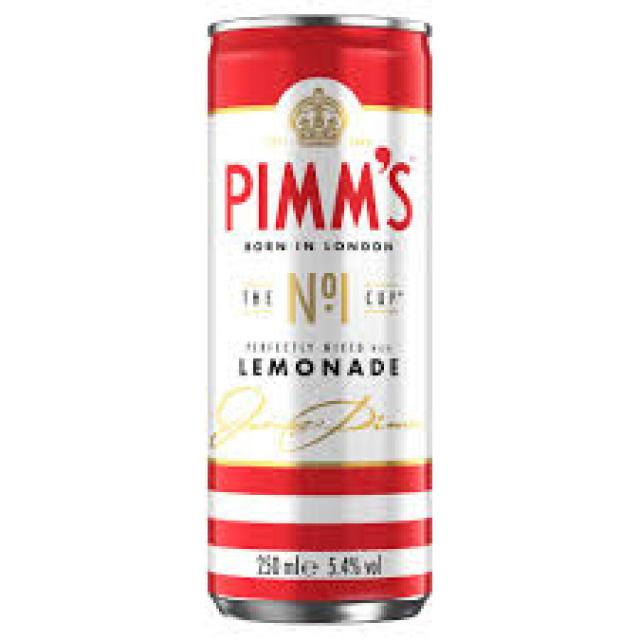Cans: (180, 3, 470, 640)
